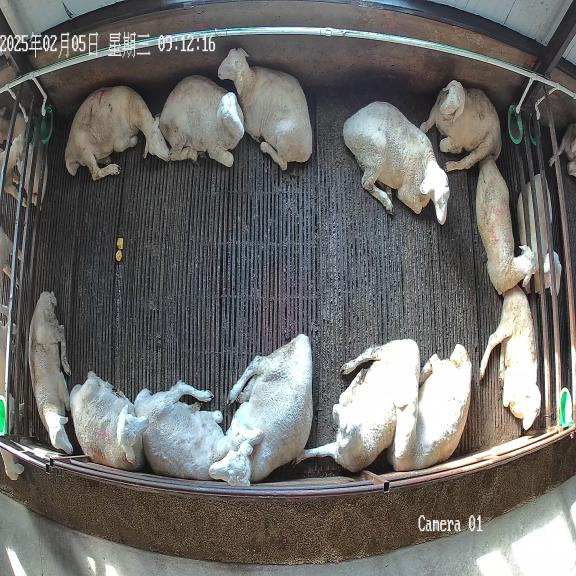lying: (297, 339, 419, 472), (209, 334, 313, 486), (343, 102, 449, 224), (134, 381, 262, 480), (218, 48, 312, 170), (388, 344, 471, 471), (65, 86, 170, 180), (480, 287, 540, 430), (476, 161, 536, 294), (70, 371, 148, 471), (159, 75, 244, 166), (420, 80, 501, 171), (28, 292, 72, 454)
